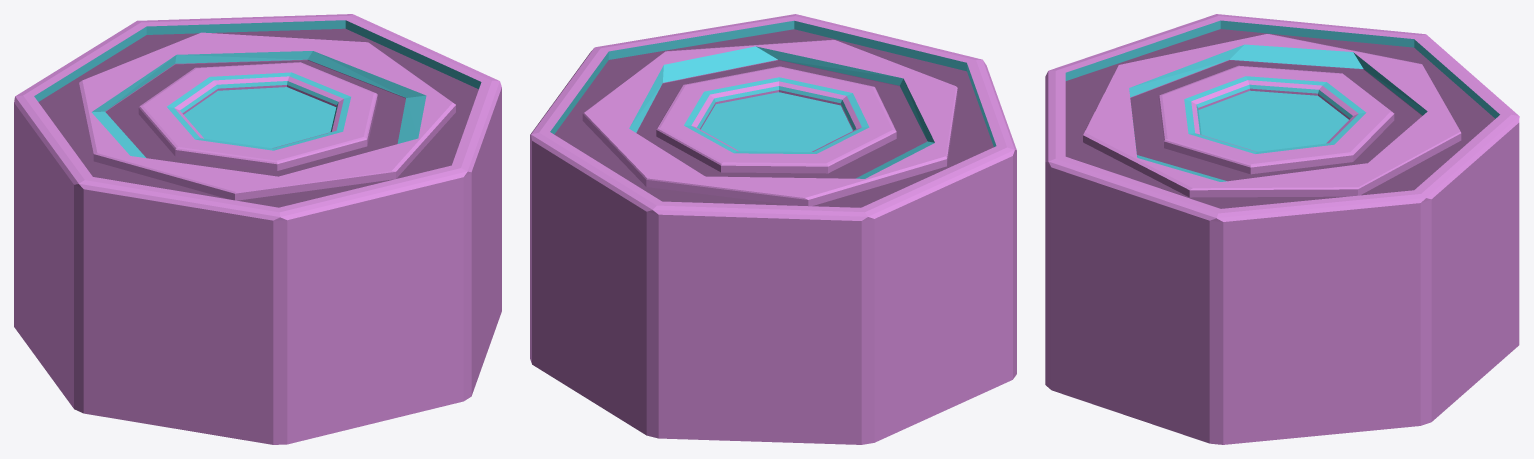
File: amethyst_wall.fbx
3 renders of one model, left to right at view 1: azimuth 30°, elevation 25°; view 2: azimuth 150°, elevation 25°; view 3: azimuth 270°, elevation 25°, orthographic.
Visible parts, largest first — view 1: amethyst_wall_body; view 2: amethyst_wall_body; view 3: amethyst_wall_body.
Boxes of the visible parts, box(x1,y1,x2,y2) form: amethyst_wall_body: box(14, 14, 501, 444); amethyst_wall_body: box(530, 14, 1016, 444); amethyst_wall_body: box(1045, 14, 1519, 444).
Size of the model in its own units: 3.87 by 2 by 3.78.
Materials: 1 (1 with a texture image).
